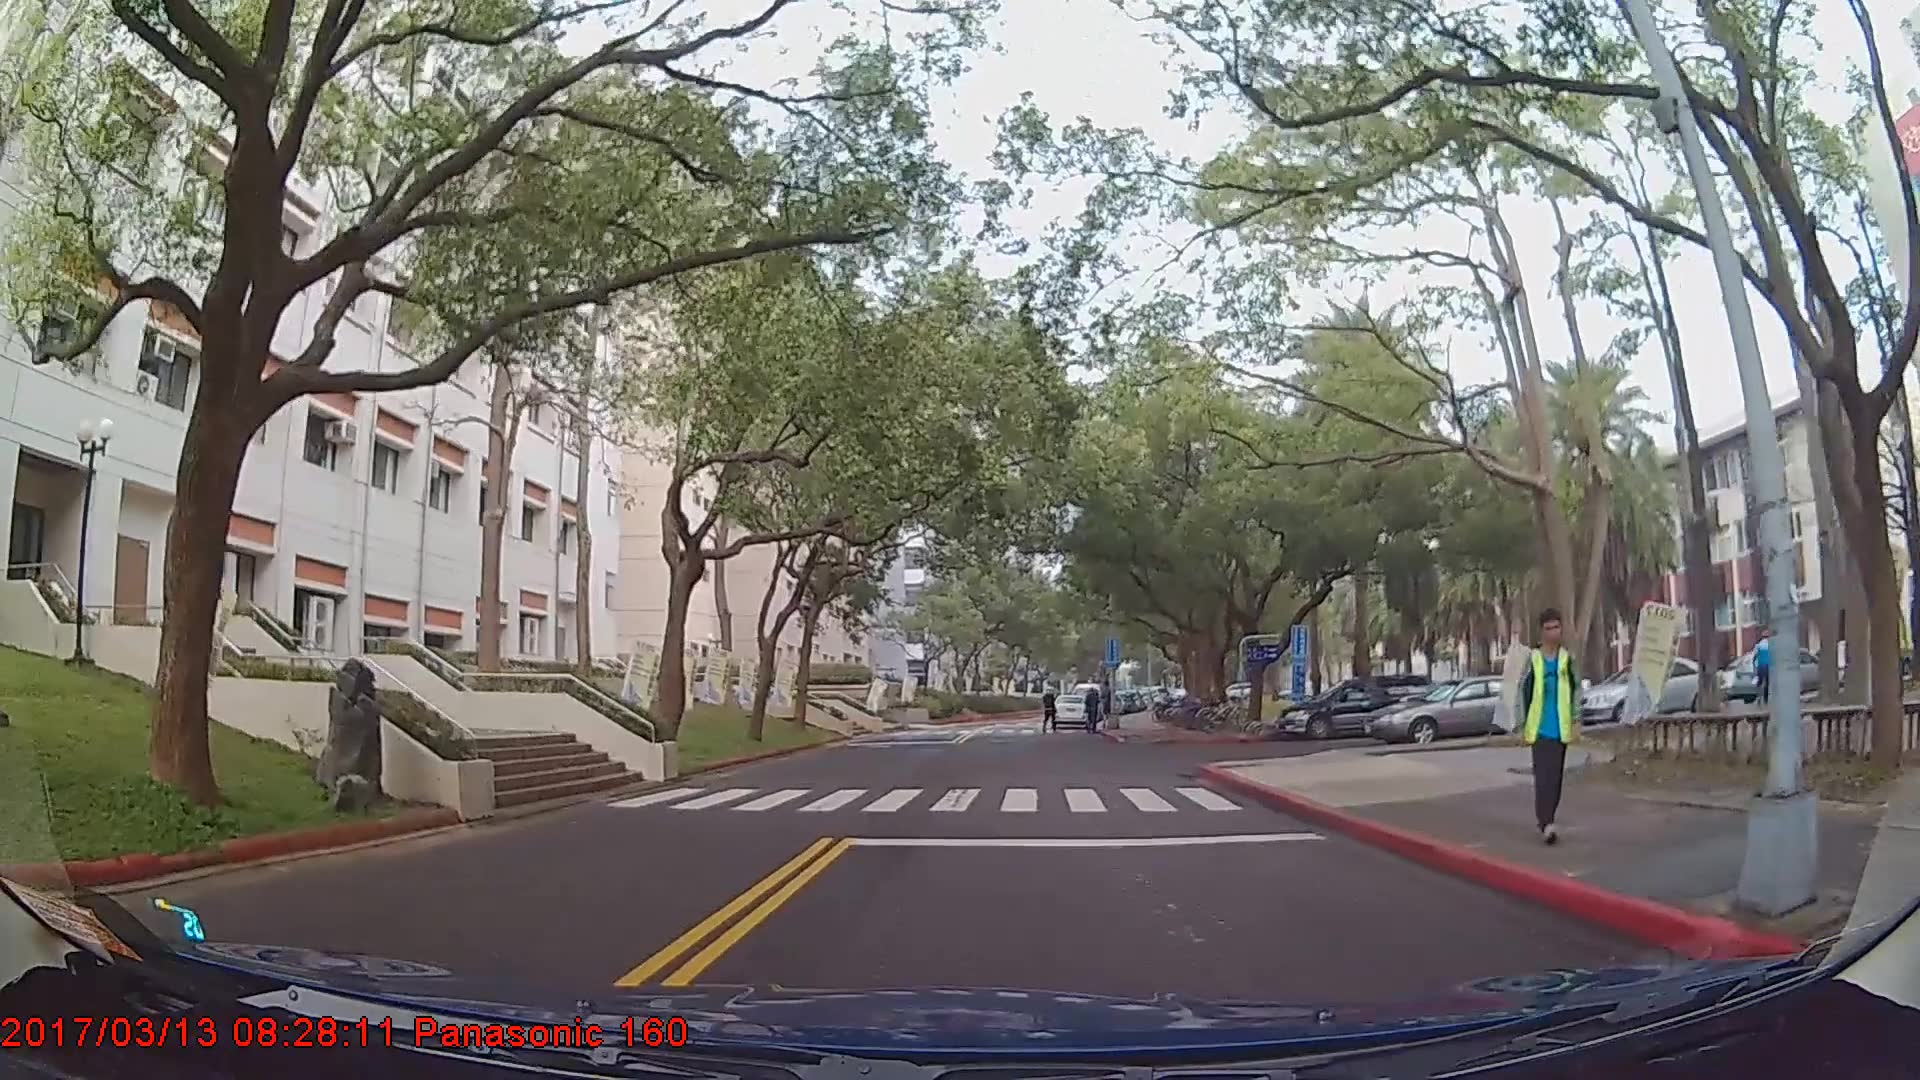pedestrian: (1509, 605, 1583, 841), (1749, 620, 1784, 712), (1041, 686, 1061, 735), (1083, 688, 1103, 735)
vehicle: (1365, 674, 1560, 745), (1576, 658, 1726, 728), (1277, 674, 1437, 738), (1730, 643, 1826, 703), (1048, 694, 1091, 731)
